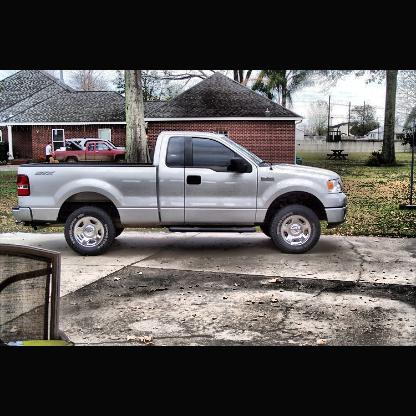Ford F-150 Regular Cab 2007: (11, 129, 350, 258)
